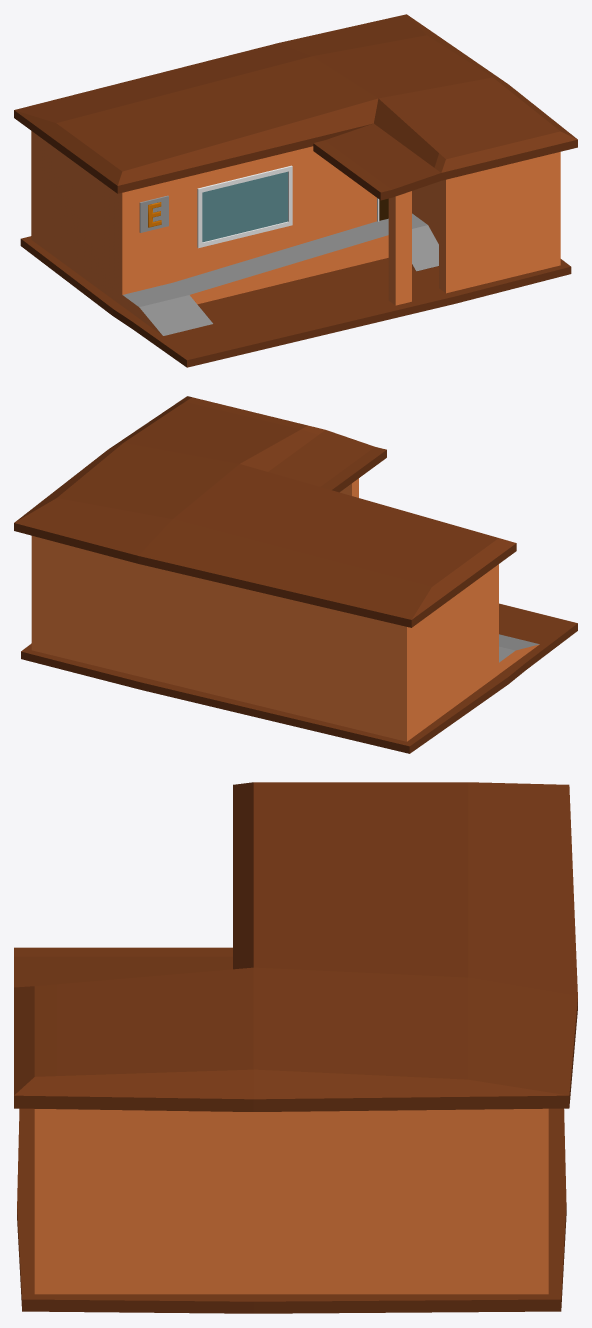
File: edificio_e.gltf
The picture shows the model from 3 angles, top to bottom: view 1: azimuth 30°, elevation 25°; view 2: azimuth 150°, elevation 25°; view 3: azimuth 270°, elevation 25°; orthographic projection. The views are drawn at different scales.
Visible parts, largest first — view 1: Cubo.003; view 2: Cubo.003; view 3: Cubo.003.
Part boxes in pixels (x1,y1,x2,y2): Cubo.003: [14, 14, 577, 367]; Cubo.003: [14, 396, 577, 753]; Cubo.003: [14, 782, 577, 1313].
Bounding box in the file's own units: 13.65 × 5.02 × 10.35.
